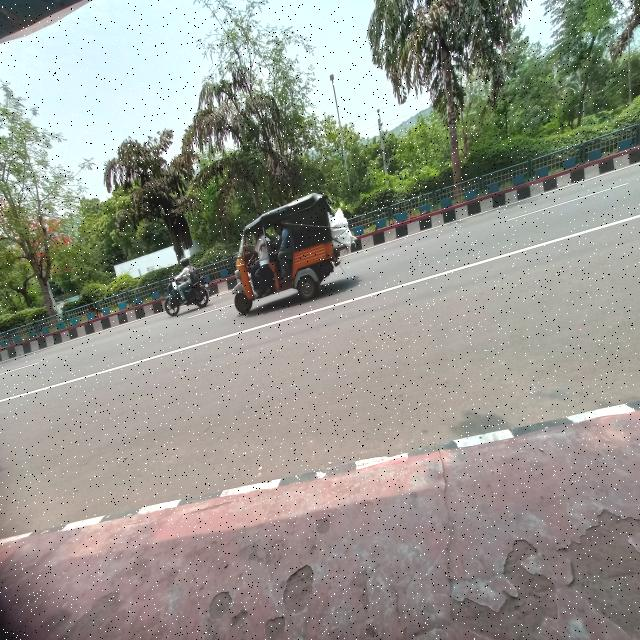bike: (159, 275, 210, 317)
